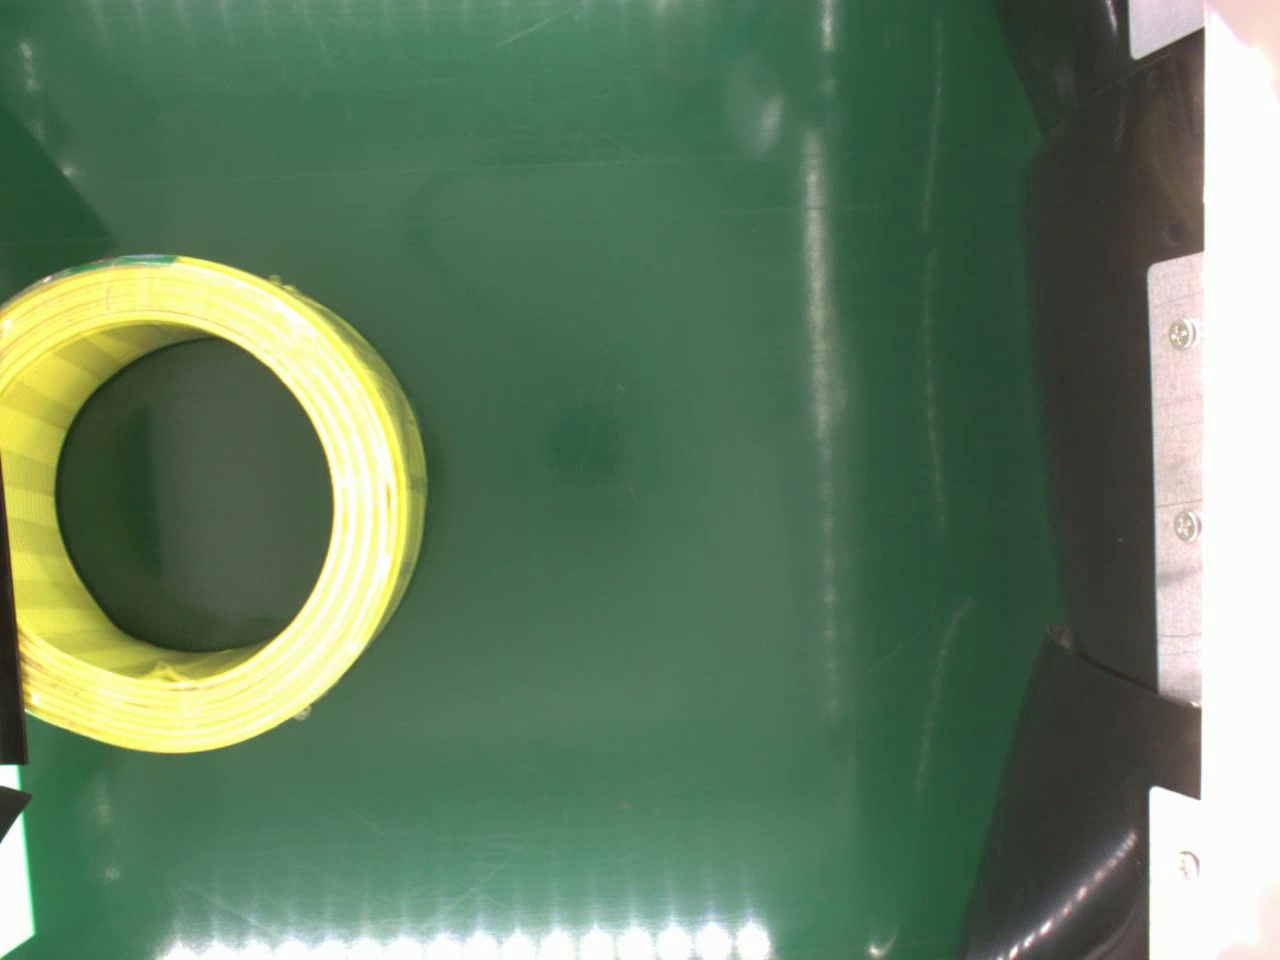yellow: (0, 244, 428, 755)
